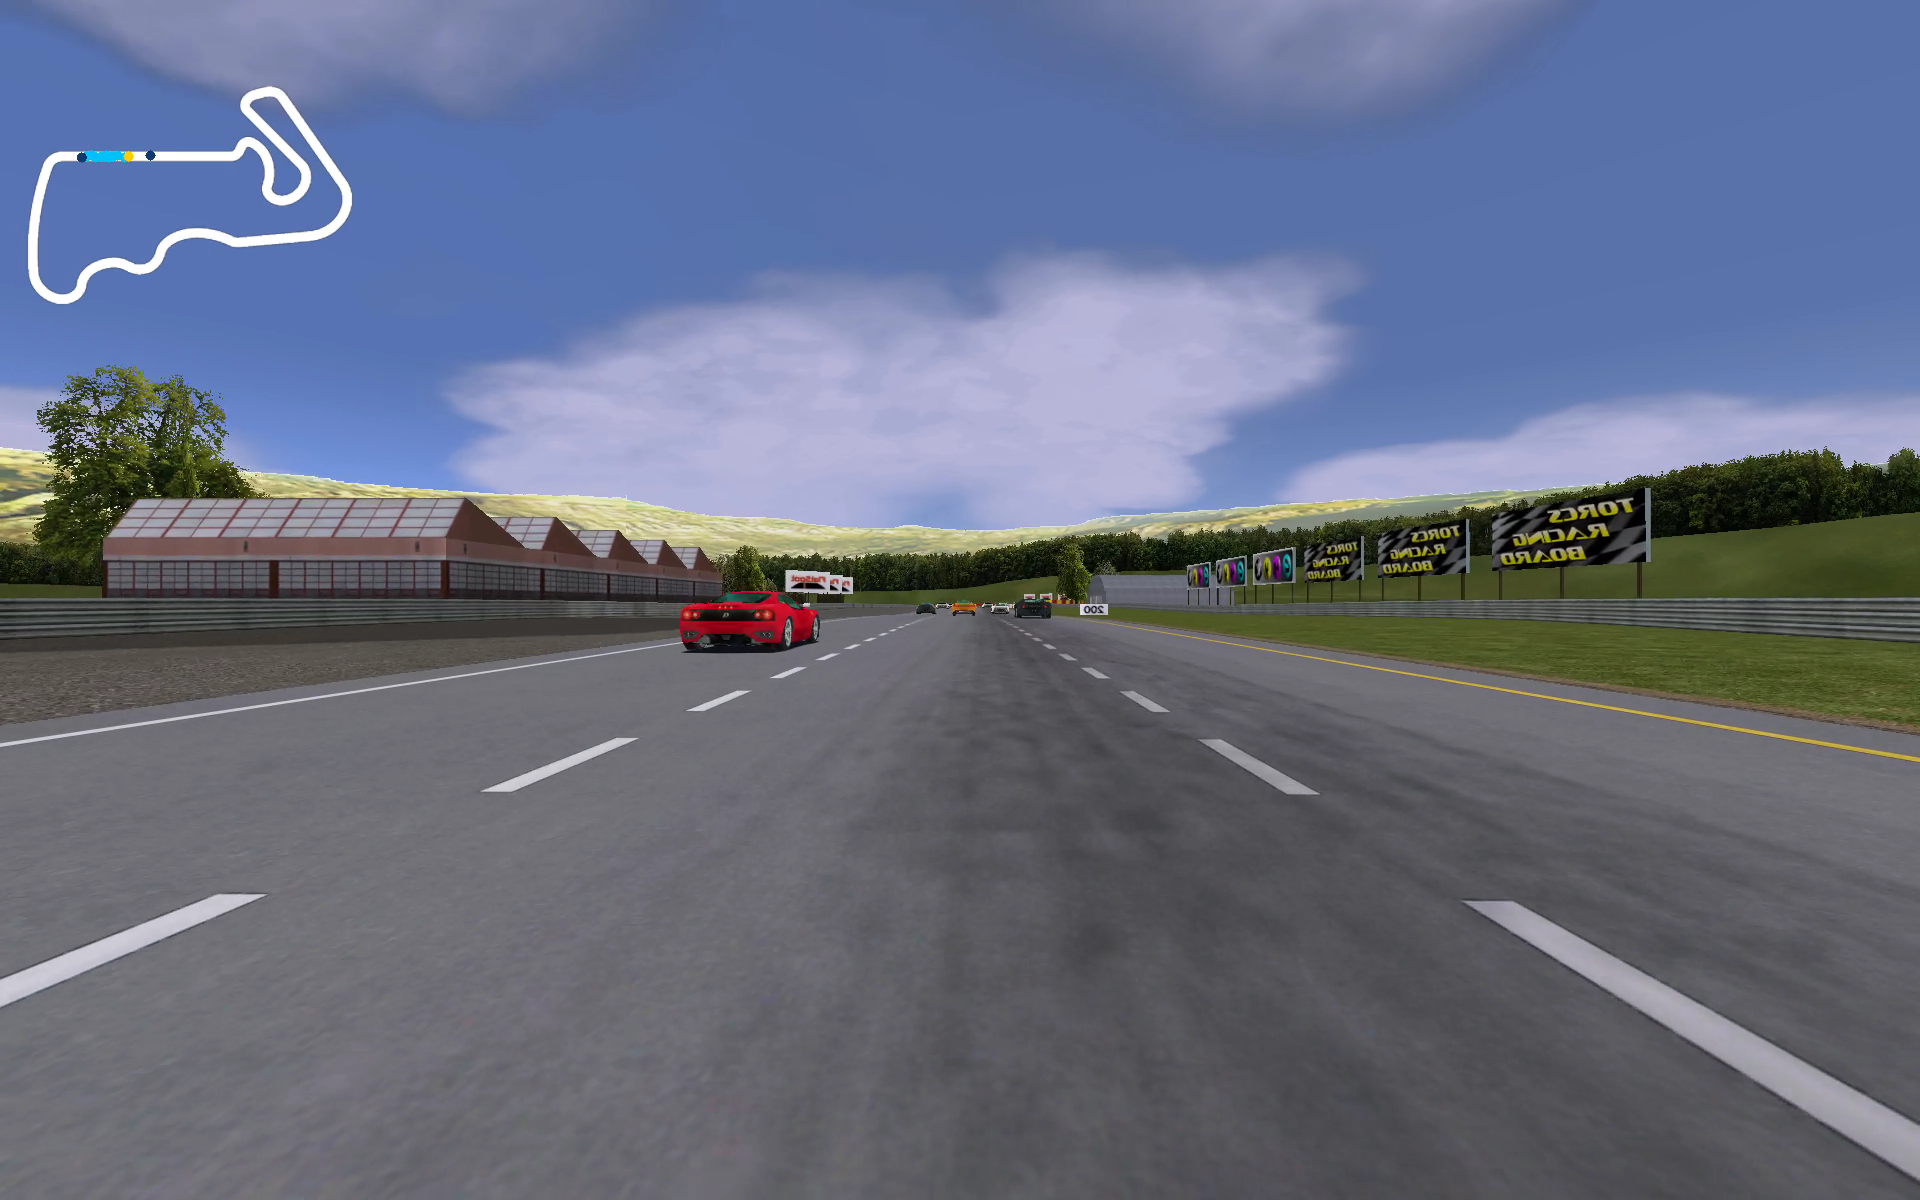car: (676, 588, 825, 653), (1015, 596, 1055, 622), (948, 599, 981, 618), (988, 600, 1013, 619), (912, 601, 934, 617)
